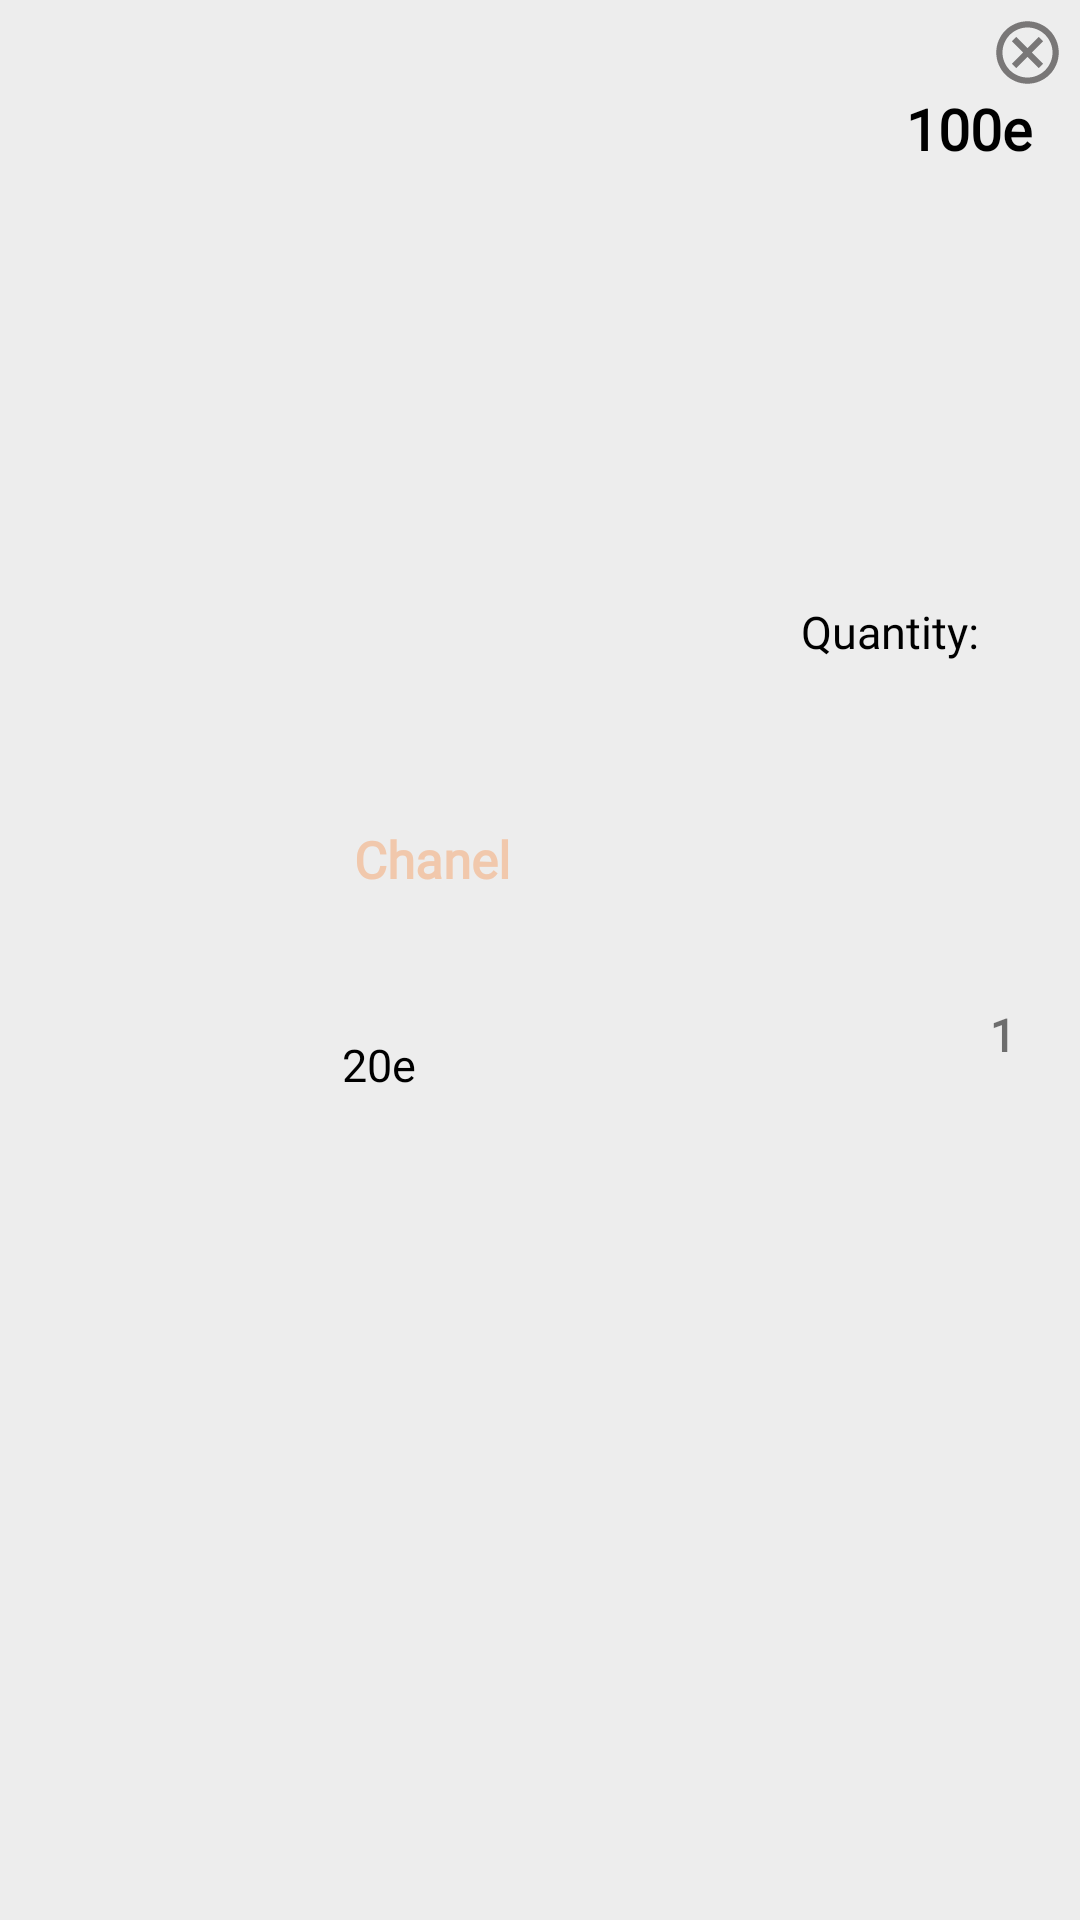

Where to tap for icons on this 1080×1920 app screen, as [x,y]:
cancel: [1027,52]
